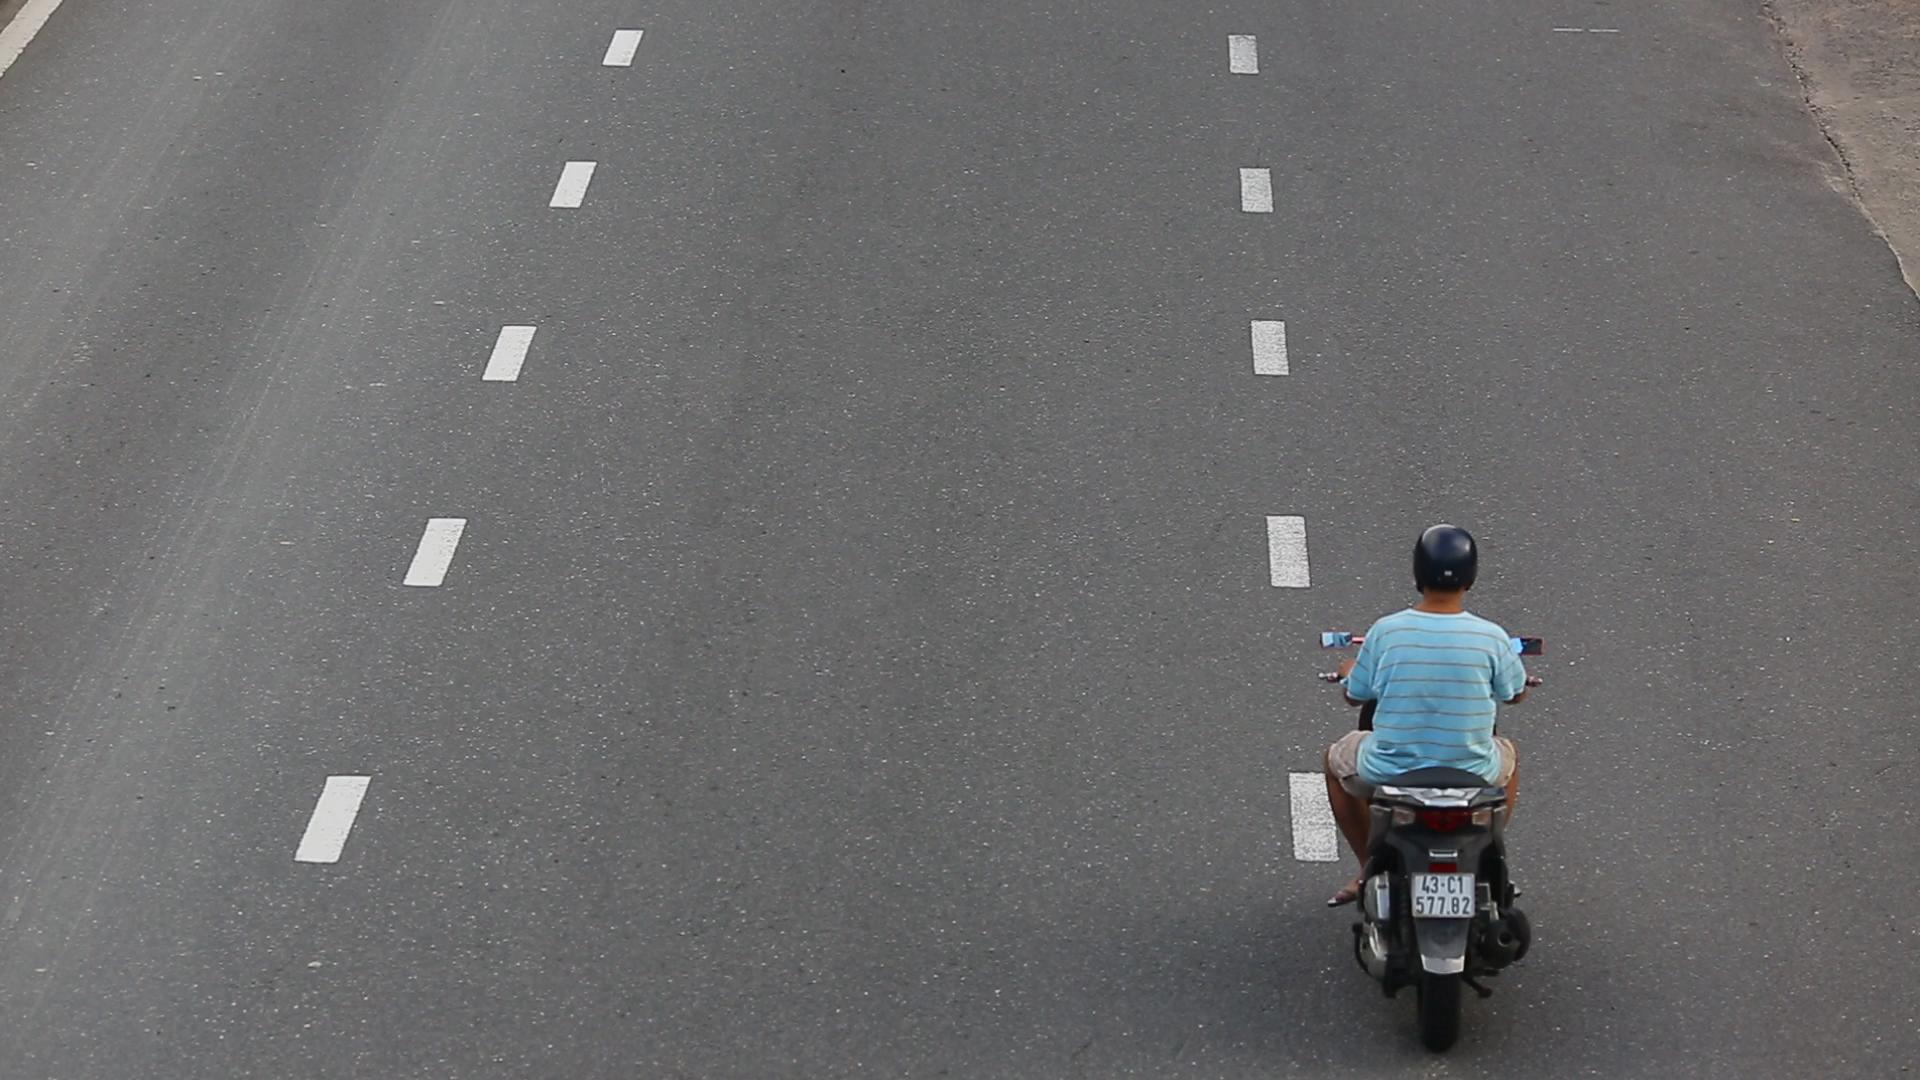motobike: (1315, 524, 1567, 1062)
